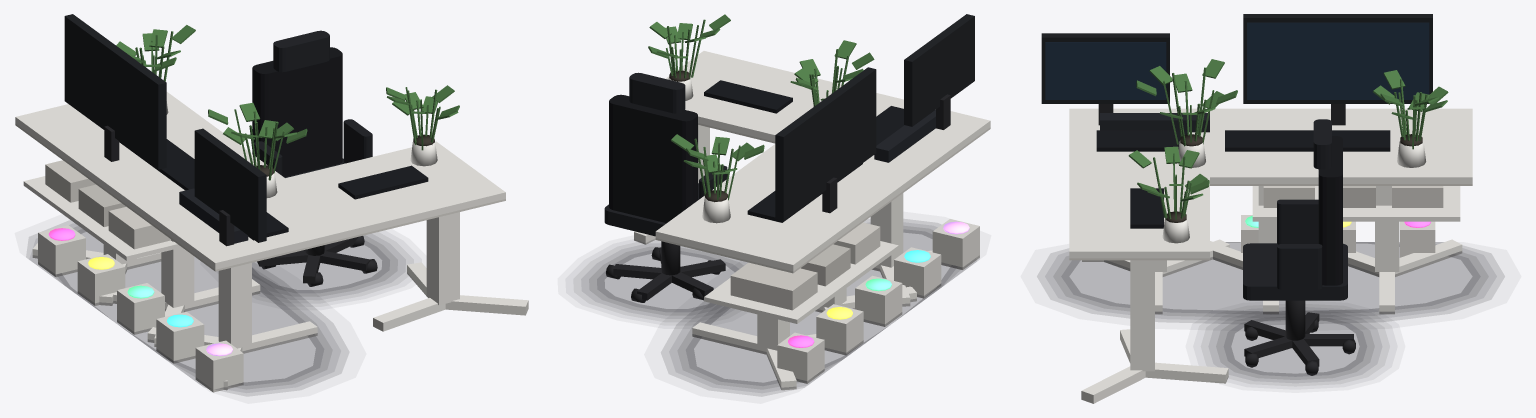
Rendered from Arcade_Desk.glb.
3 views of the same model, side by side, from view 1: azimuth 30°, elevation 25°; view 2: azimuth 150°, elevation 25°; view 3: azimuth 270°, elevation 25° (orthographic). The views are drawn at different scales.
Visible parts, largest first — view 1: root; view 2: root; view 3: root.
Boxes of the visible parts, bbox=[...] form: root: bbox=[15, 14, 528, 396]; root: bbox=[573, 14, 990, 396]; root: bbox=[1037, 14, 1504, 403].
Bounding box in the file's own units: 1.89 × 1.35 × 2.5.
